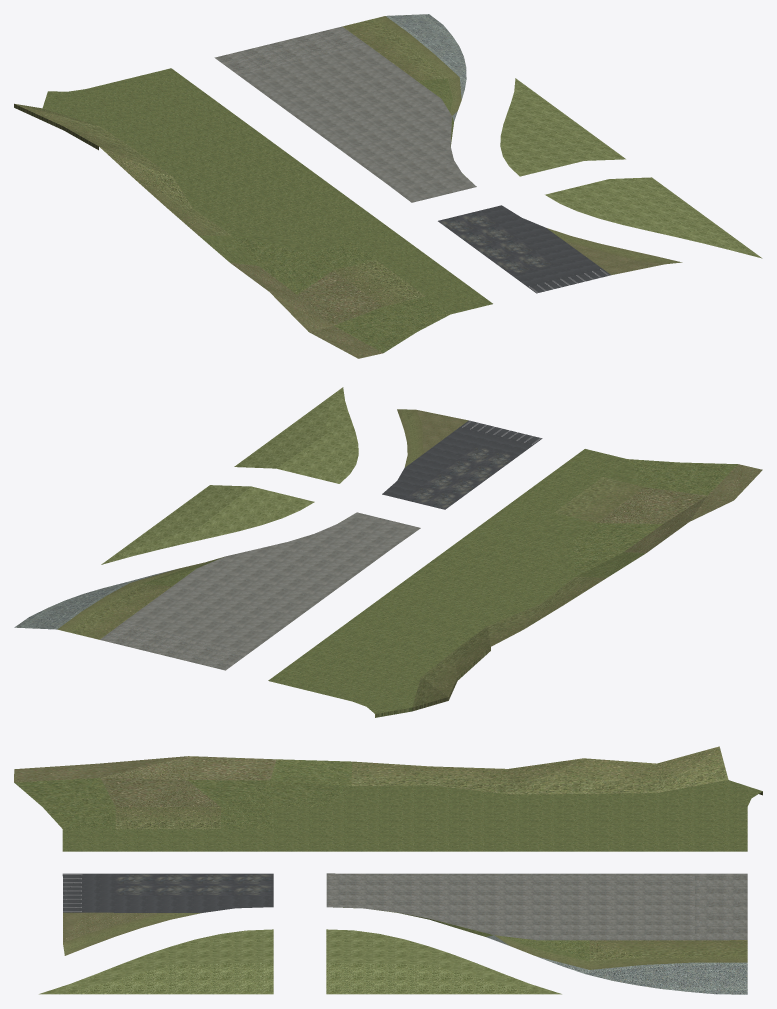
File: vgnorthcoast02.obj
3 renders of one model, top to bottom at view 1: azimuth 30°, elevation 25°; view 2: azimuth 150°, elevation 25°; view 3: azimuth 270°, elevation 25°, orthographic. The views are drawn at different scales.
Visible parts, largest first — view 1: vgnorthcoast02; view 2: vgnorthcoast02; view 3: vgnorthcoast02.
Boxes of the visible parts, bbox=[...] form: vgnorthcoast02: bbox=[14, 14, 762, 358]; vgnorthcoast02: bbox=[14, 387, 762, 717]; vgnorthcoast02: bbox=[14, 746, 762, 994].
Bounding box in the file's own units: 200 × 10.93 × 284.
Materials: 12 (12 with a texture image).
